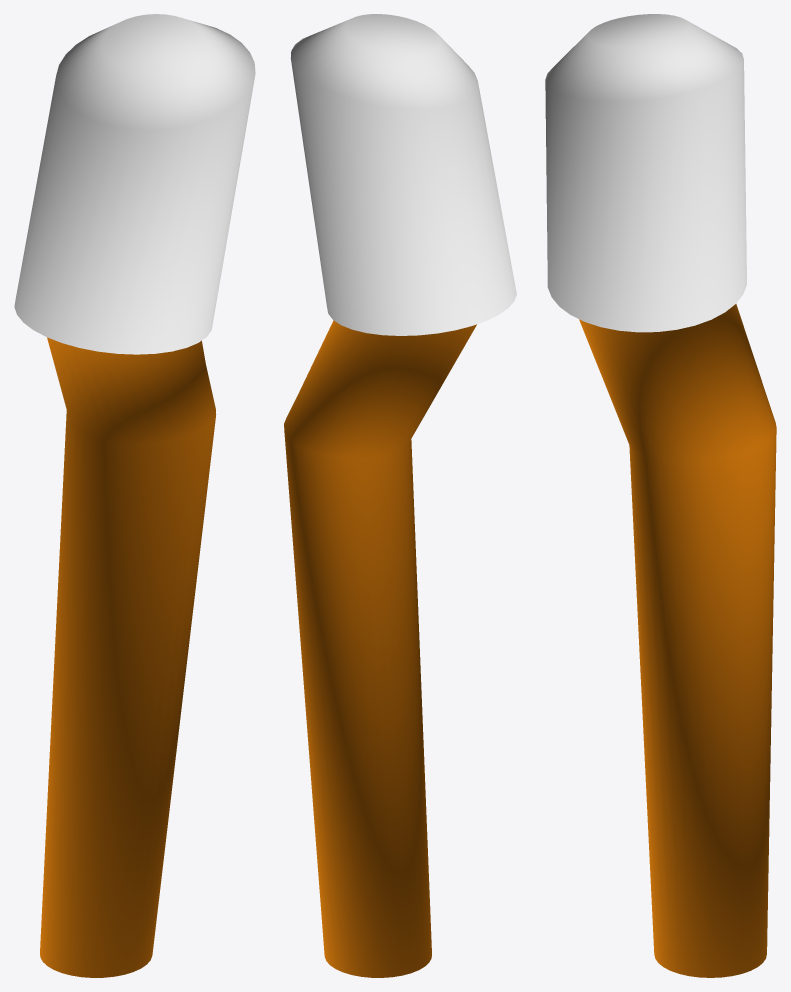
The model's file is TorchV2.fbx.
The picture shows the model from 3 angles, left to right: view 1: azimuth 30°, elevation 25°; view 2: azimuth 150°, elevation 25°; view 3: azimuth 270°, elevation 25°; orthographic projection. The views are drawn at different scales.
Visible parts, largest first — view 1: Torch; view 2: Torch; view 3: Torch.
Boxes of the visible parts, x1,y1,x2,y2 form: Torch: [14, 14, 255, 977]; Torch: [284, 14, 516, 977]; Torch: [545, 14, 776, 977].
Size of the model in its own units: 46.8 by 198 by 44.17.
